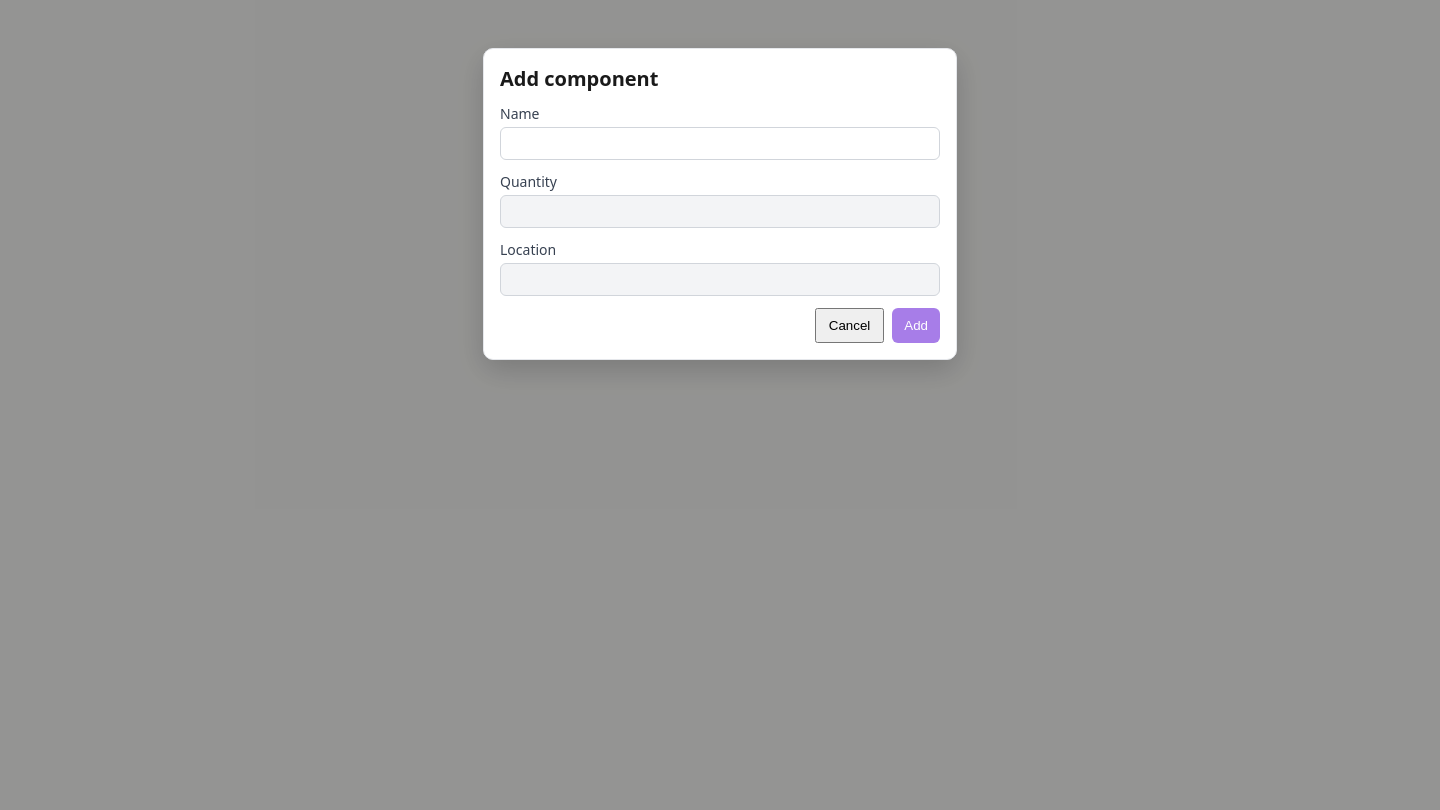
AddComponentModal › lists components on focus and narrows as you type
Focus the field labelled "Name" at [720, 144], box [500,127,940,160]
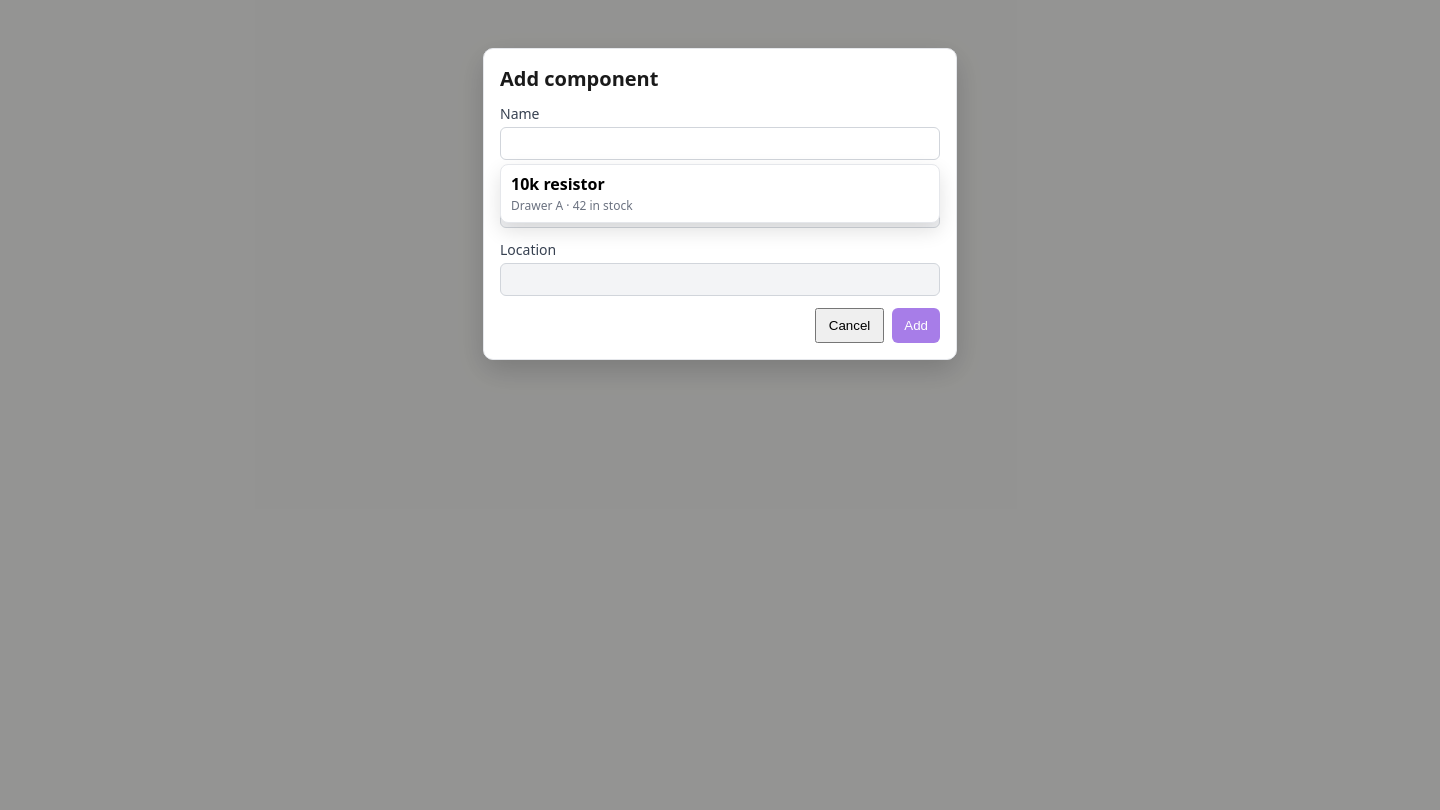
Now the option "10k resistor Drawer A · 42 in stock" is shown, box [501,165,939,222]
Type "10k" into the field labelled "Name" at [720, 144], box [500,127,940,160]
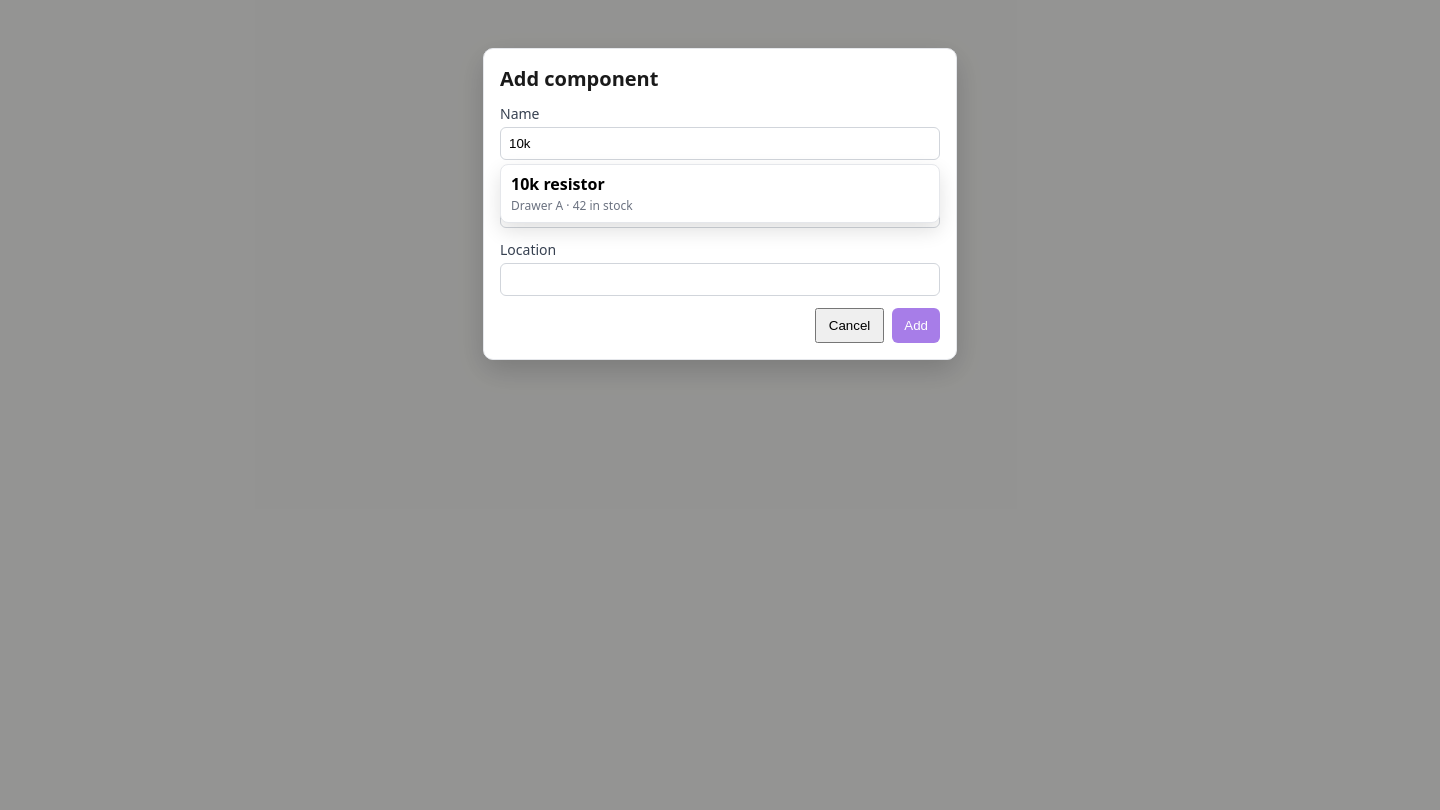
Replace the text in the field labelled "Name" with "zzz" at [720, 144], box [500,127,940,160]
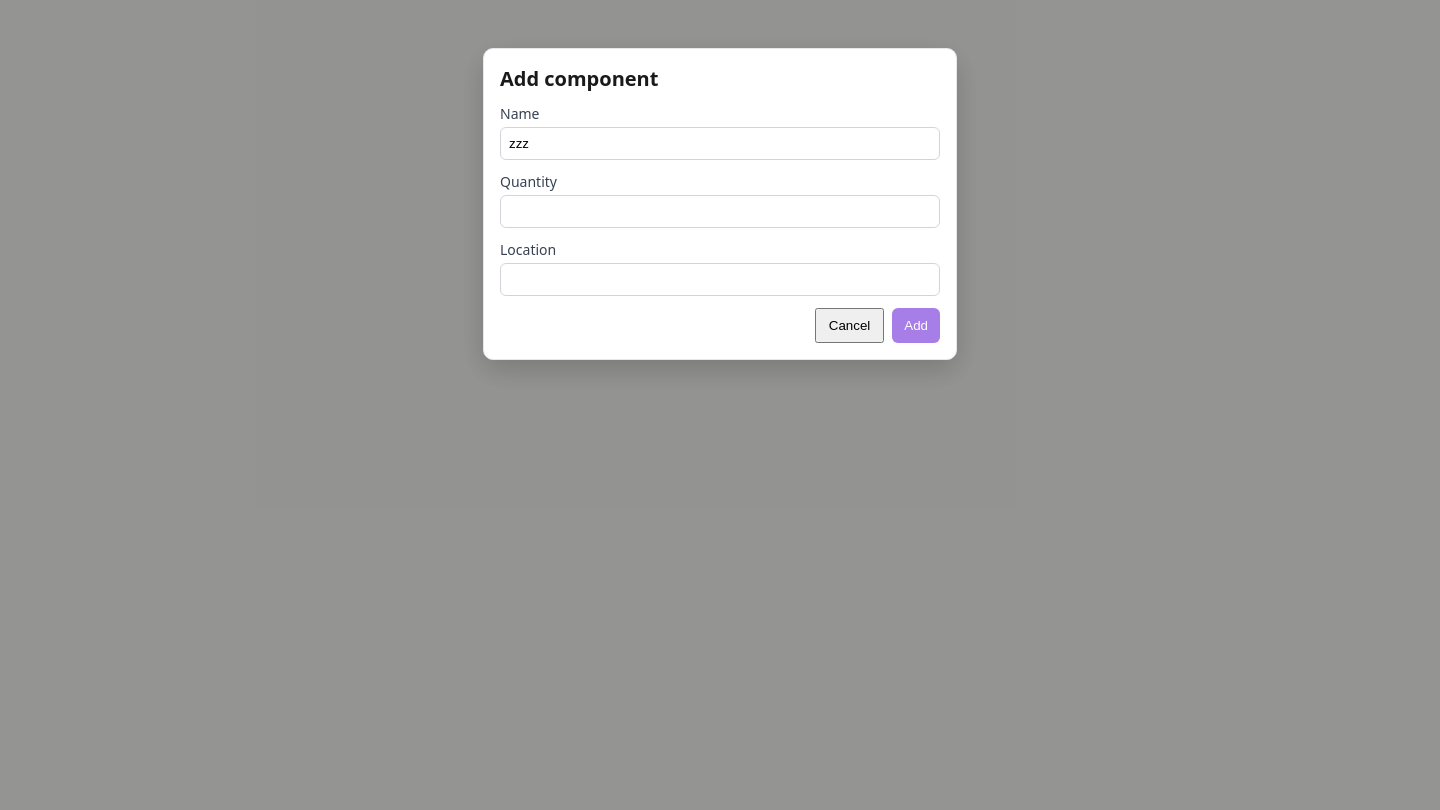
Now the option "10k resistor" is gone
